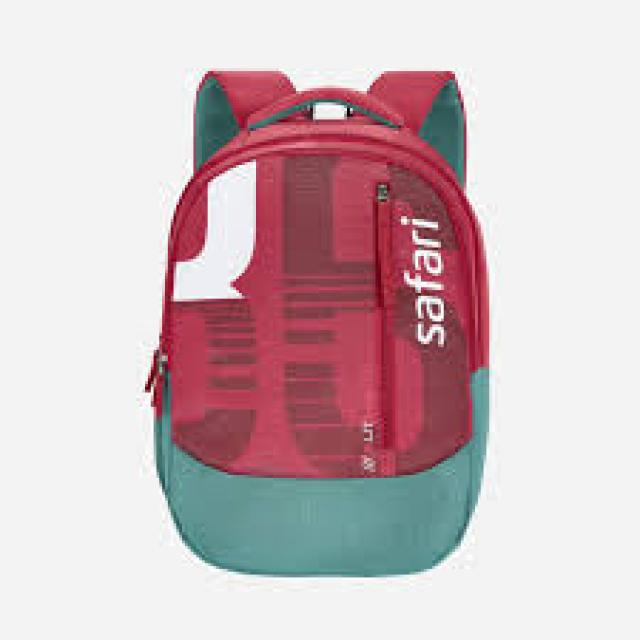backpack: (142, 66, 489, 574)
